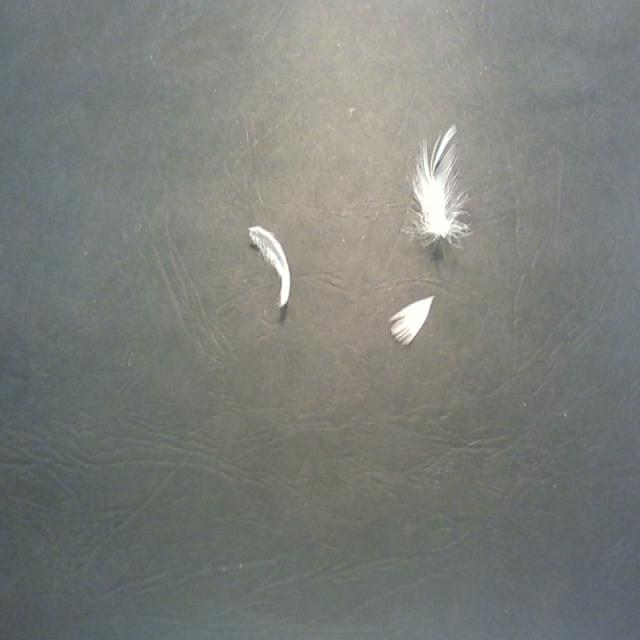feather: (399, 120, 467, 249), (245, 220, 291, 308), (387, 290, 438, 346)
